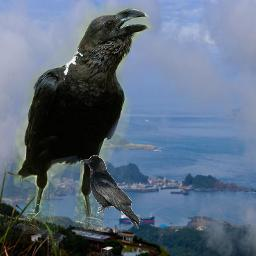Crow: (13, 3, 154, 234), (80, 155, 140, 229)
